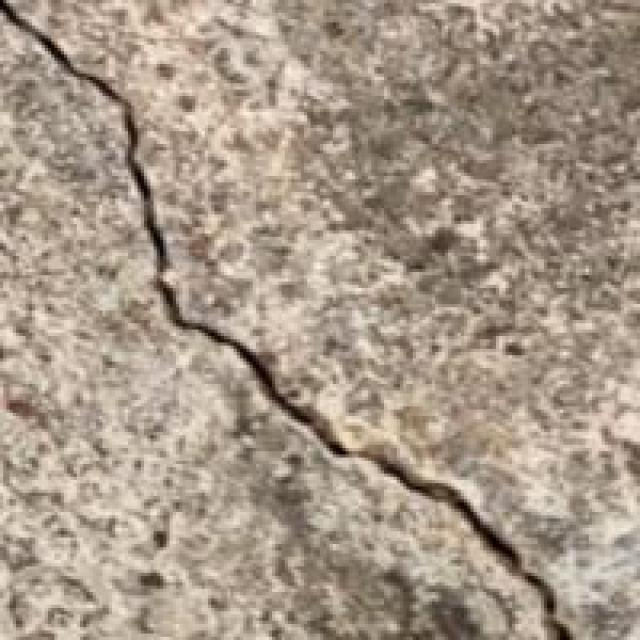Crack: (0, 0, 566, 637)
